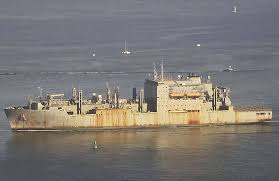rust: (98, 110, 129, 127), (187, 118, 202, 125)
